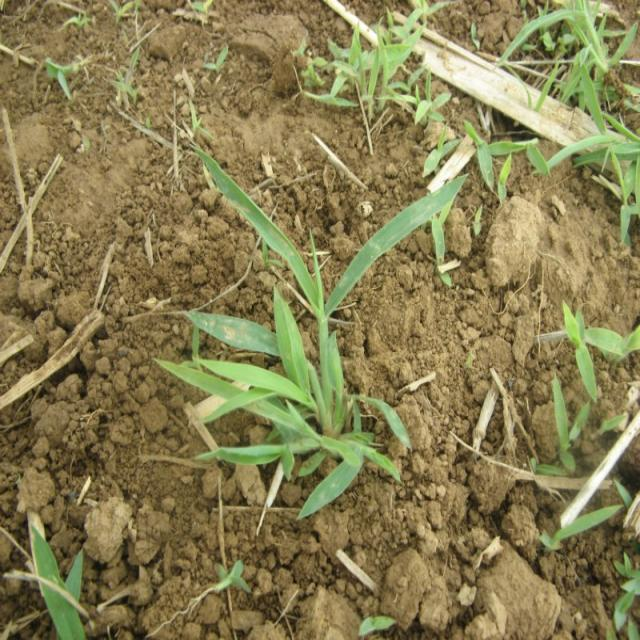bg: (167, 138, 466, 522)
